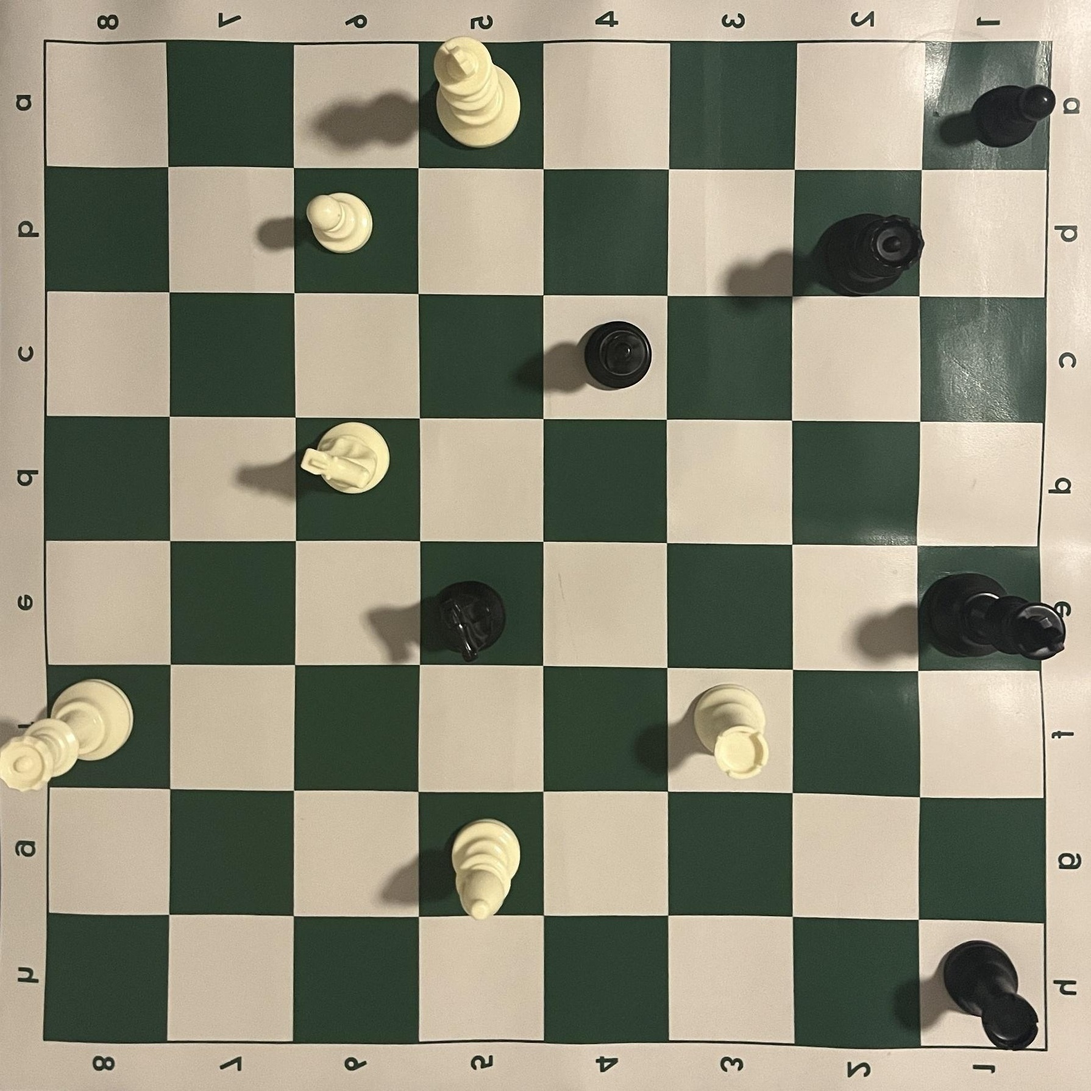black_bishop: (584, 320, 653, 391)
black_king: (919, 572, 1068, 662)
black_knight: (430, 580, 507, 663)
black_pawn: (972, 84, 1057, 149)
black_queen: (811, 213, 925, 296)
black_rook: (942, 939, 1041, 1053)
white_bishop: (450, 819, 521, 920)
white_king: (433, 36, 521, 148)
white_knight: (300, 421, 390, 494)
white_pawn: (306, 192, 374, 255)
white_queen: (0, 678, 134, 792)
white_rook: (693, 683, 771, 781)
